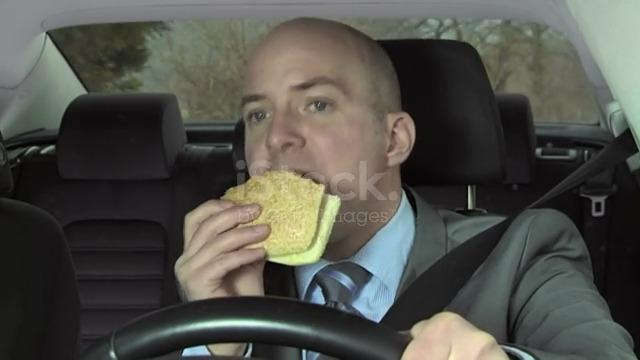Eating: (172, 24, 435, 289)
